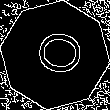O_W: (27, 30, 83, 80)
